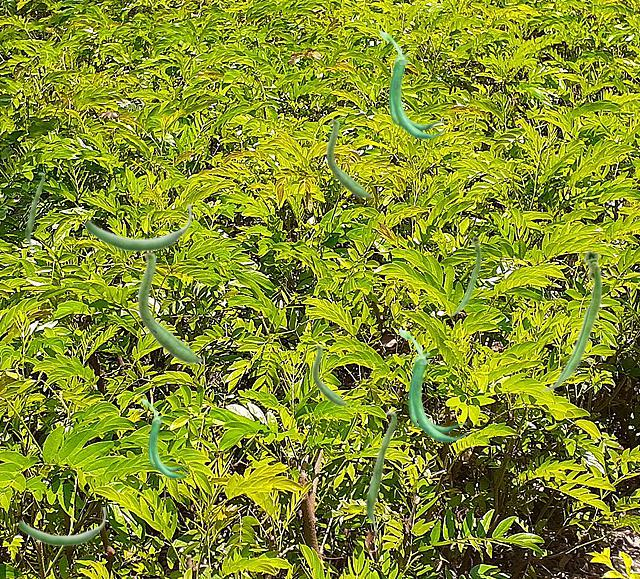french_bean: (541, 249, 601, 391), (398, 328, 467, 441), (137, 252, 202, 363), (379, 30, 444, 138), (85, 204, 191, 251), (365, 410, 396, 535), (141, 398, 188, 477), (326, 118, 371, 197), (18, 507, 105, 545), (448, 236, 480, 315), (312, 344, 347, 405), (25, 172, 44, 251)
